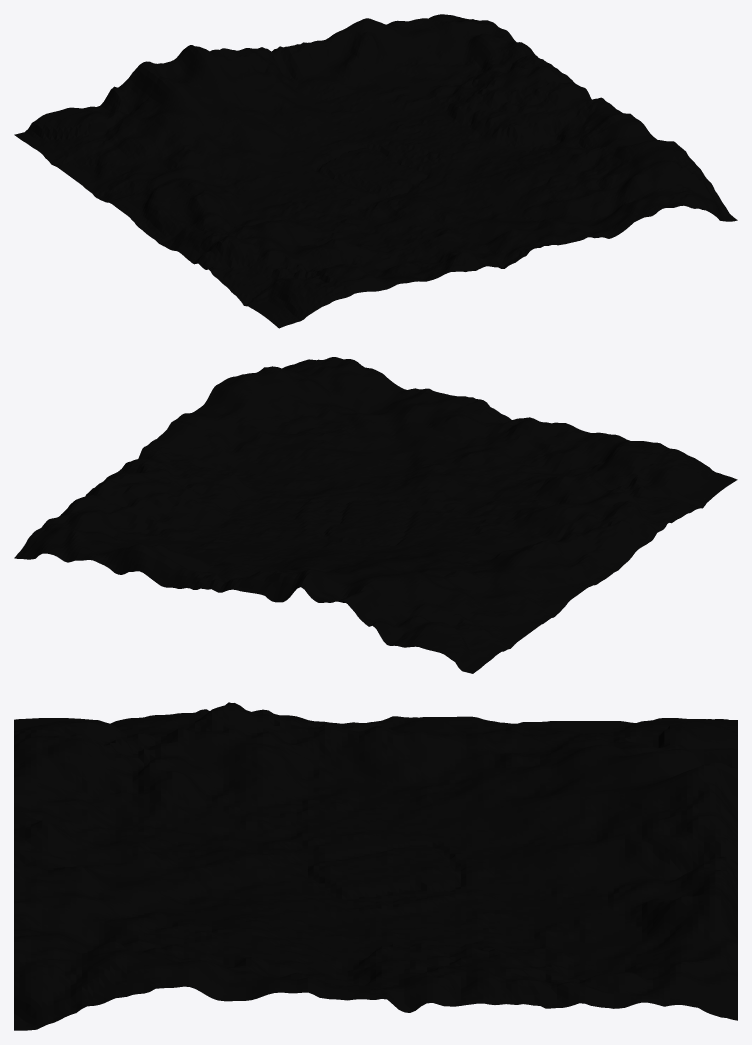
The model's file is Terrain (1).fbx.
3 views of the same model, one above another, from view 1: azimuth 30°, elevation 25°; view 2: azimuth 150°, elevation 25°; view 3: azimuth 270°, elevation 25° (orthographic). The views are drawn at different scales.
Visible parts, largest first — view 1: Terrain (1); view 2: Terrain (1); view 3: Terrain (1).
Boxes of the visible parts, <box> form: Terrain (1): <box>14,14,737,328</box>; Terrain (1): <box>14,357,737,673</box>; Terrain (1): <box>14,702,737,1030</box>.
Bounding box in the file's own units: 3000 × 351 × 3000.
Materials: 1 (1 with a texture image).
